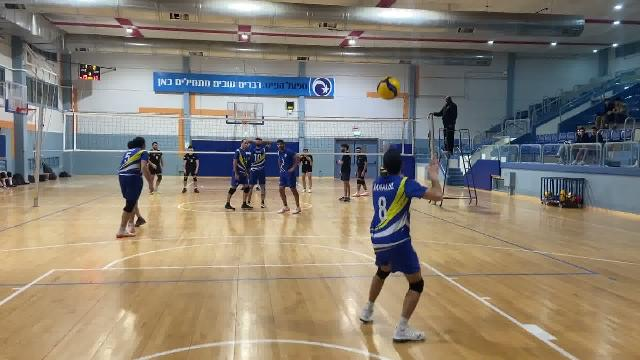ball: (373, 76, 404, 103)
